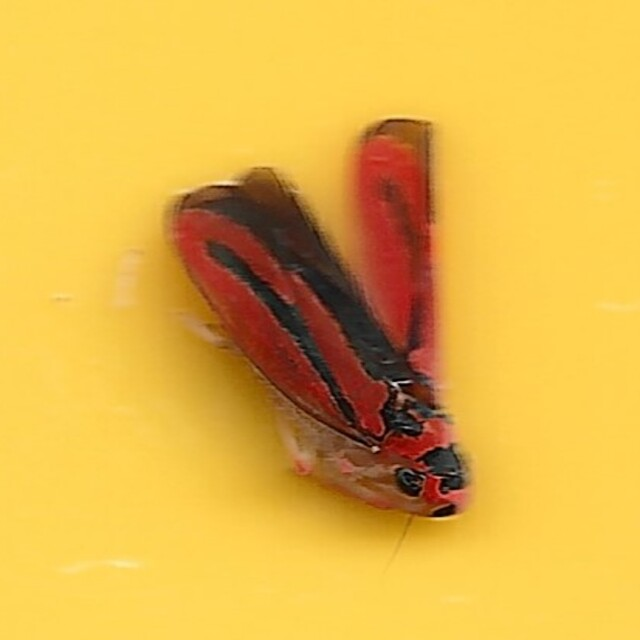Hemiptera: (155, 113, 485, 527)
